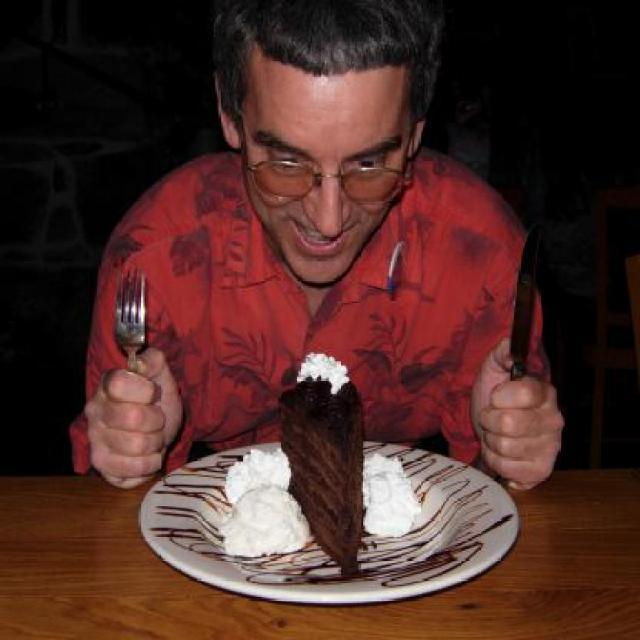Cake: (275, 350, 363, 578)
